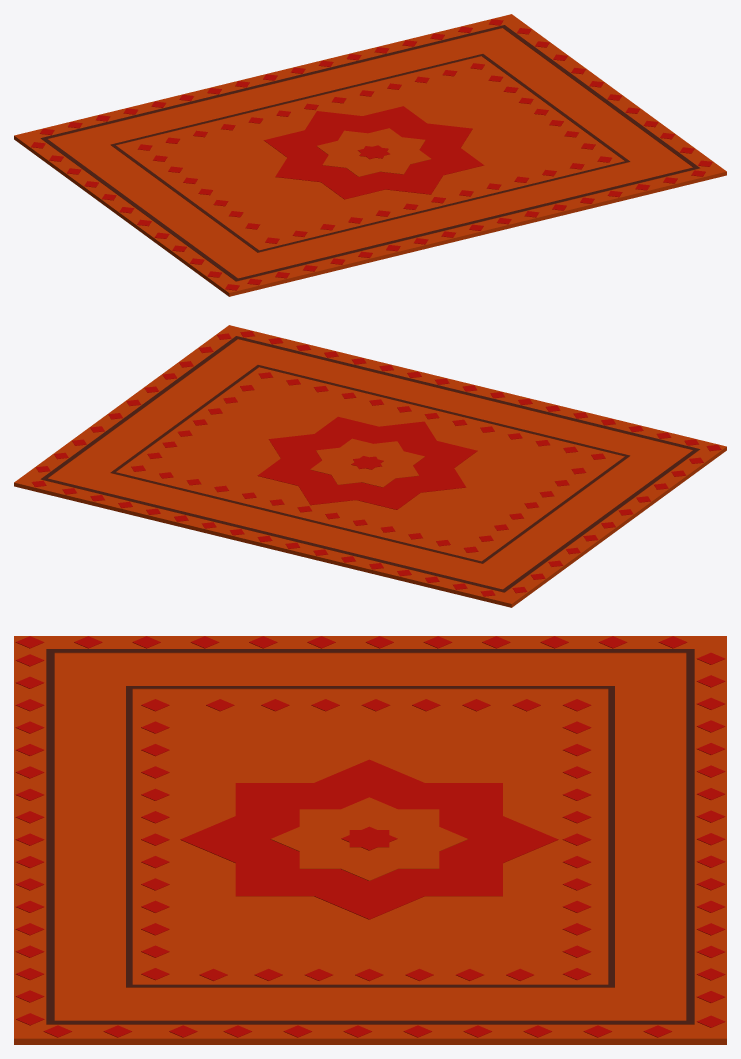
File: Oriental rug.obj
3 renders of one model, top to bottom at view 1: azimuth 30°, elevation 25°; view 2: azimuth 150°, elevation 25°; view 3: azimuth 270°, elevation 25°, orthographic. The views are drawn at different scales.
Parts seen in each view (by area): view 1: Box212, Box188, Box191, Box190, Box127; view 2: Box212, Box188, Box190, Box191, Box127; view 3: Box212, Box190, Box188, Box191, Box127.
Part boxes in pixels (x1,y1,x2,y2): Box212: (14,14,726,296); Box188: (275,111,472,194); Box191: (322,130,425,174); Box190: (264,106,484,199); Box127: (316,128,431,176); Box212: (14,325,726,607); Box188: (268,421,466,505); Box190: (257,416,477,509); Box191: (316,441,418,484); Box127: (310,438,424,487); Box212: (14,636,726,1044); Box190: (235,783,502,896); Box188: (180,759,558,919); Box191: (270,797,467,880); Box127: (299,809,439,868).
Size of the model in its own units: 449715 by 4057 by 336669.
